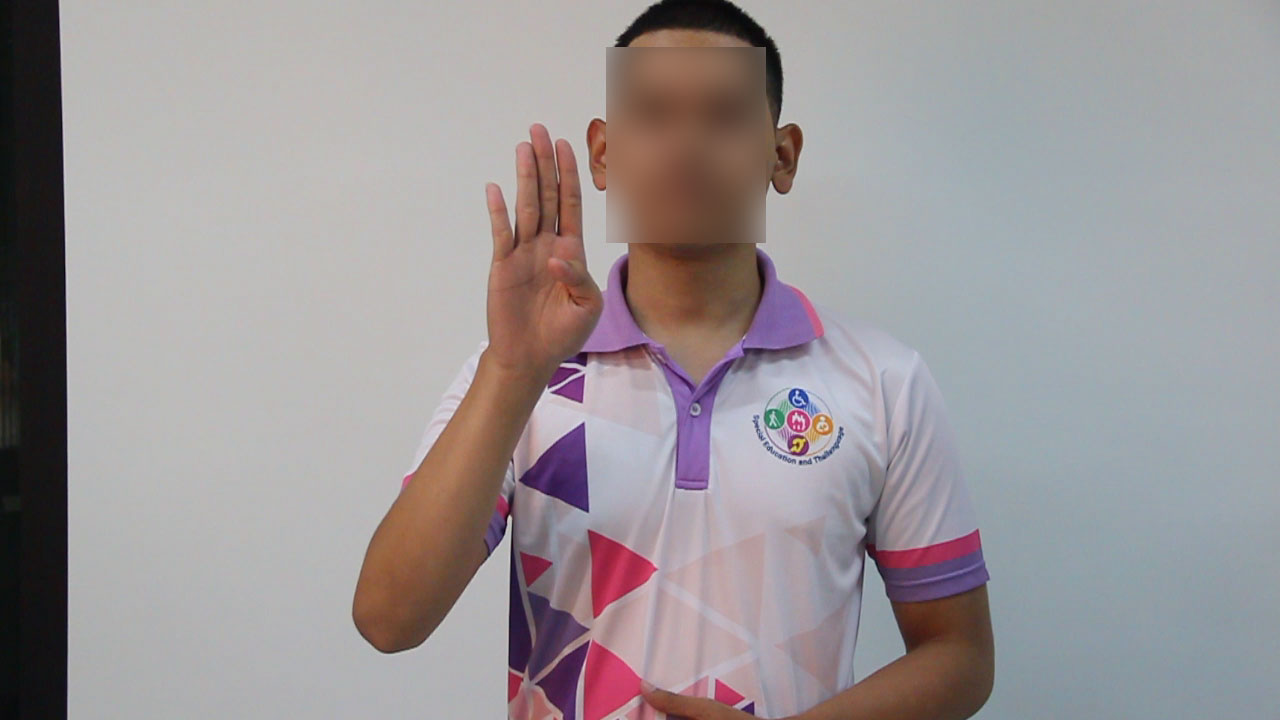bor: (462, 106, 615, 404)
